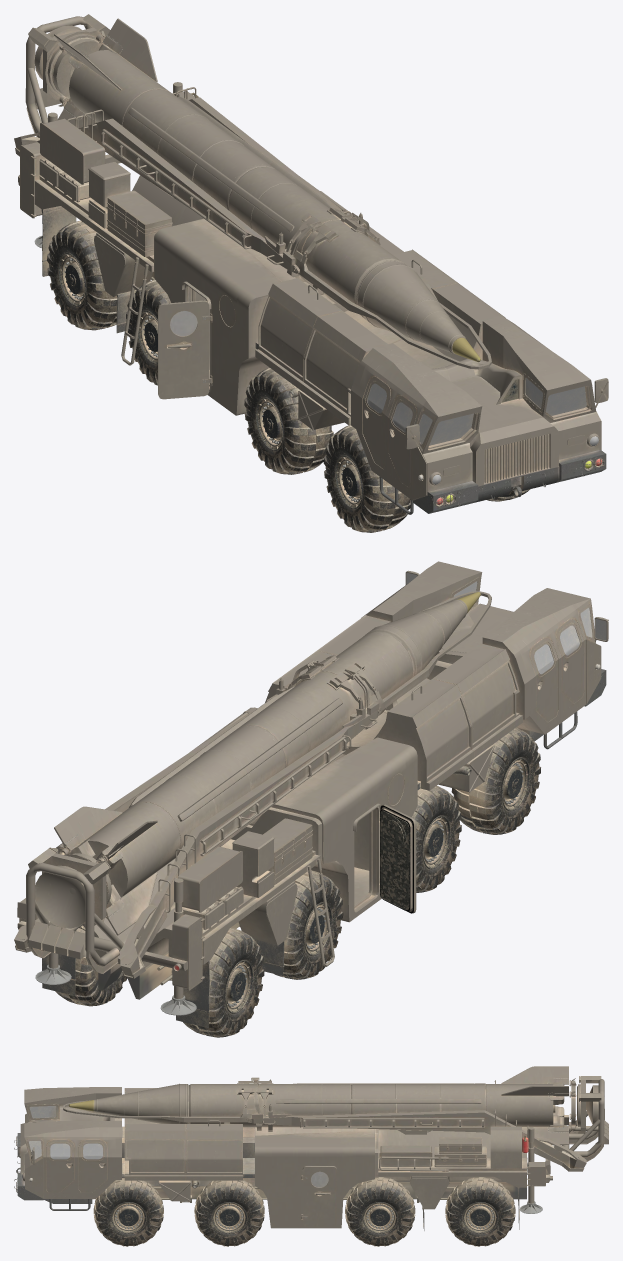
Rendered from scud-missile-launcher-seperated-ver.glb.
The picture shows the model from 3 angles, top to bottom: view 1: azimuth 30°, elevation 25°; view 2: azimuth 150°, elevation 25°; view 3: azimuth 270°, elevation 25°; orthographic projection. The views are drawn at different scales.
Visible parts, largest first — view 1: Object_7, Object_14, Object_20, Object_4, Object_8, Object_6, Object_19, Object_2, Object_16, Object_10, Object_5, Object_18 (+3 smaller); view 2: Object_7, Object_20, Object_14, Object_8, Object_4, Object_6, Object_19, Object_16, Object_10, Object_18, Object_15, Object_2 (+6 smaller); view 3: Object_7, Object_20, Object_8, Object_14, Object_6, Object_4, Object_16, Object_10, Object_18, Object_2, Object_15, Object_3 (+4 smaller).
Boxes of the visible parts, x1,y1,x2,y2 form: Object_7: (54, 18, 480, 362); Object_14: (351, 316, 601, 500); Object_20: (47, 220, 530, 532); Object_4: (255, 249, 505, 425); Object_8: (154, 191, 403, 415); Object_6: (14, 87, 491, 369); Object_19: (20, 91, 196, 256); Object_2: (121, 257, 608, 486); Object_16: (25, 16, 211, 399); Object_10: (34, 175, 203, 296); Object_5: (170, 92, 602, 504); Object_18: (58, 253, 362, 509); Object_7: (54, 592, 480, 935); Object_20: (55, 727, 540, 1037); Object_14: (361, 561, 601, 734); Object_8: (190, 707, 417, 922); Object_4: (265, 615, 522, 790); Object_6: (14, 591, 491, 978); Object_19: (42, 818, 312, 990); Object_16: (21, 804, 416, 973); Object_10: (82, 839, 320, 967); Object_18: (225, 757, 529, 1013); Object_15: (17, 846, 187, 998); Object_2: (17, 570, 608, 966); Object_7: (68, 1066, 568, 1144); Object_20: (93, 1177, 515, 1246); Object_8: (255, 1127, 378, 1228); Object_14: (23, 1087, 121, 1198); Object_6: (63, 1077, 598, 1171); Object_4: (124, 1088, 242, 1180); Object_16: (301, 1079, 608, 1226); Object_10: (375, 1129, 527, 1209); Object_18: (111, 1202, 497, 1233); Object_2: (20, 1106, 550, 1201); Object_15: (379, 1076, 601, 1203); Object_3: (14, 1126, 254, 1210).
Size of the model in its own units: 2.32 by 2.24 by 8.19.
19 materials, 19 textured.
